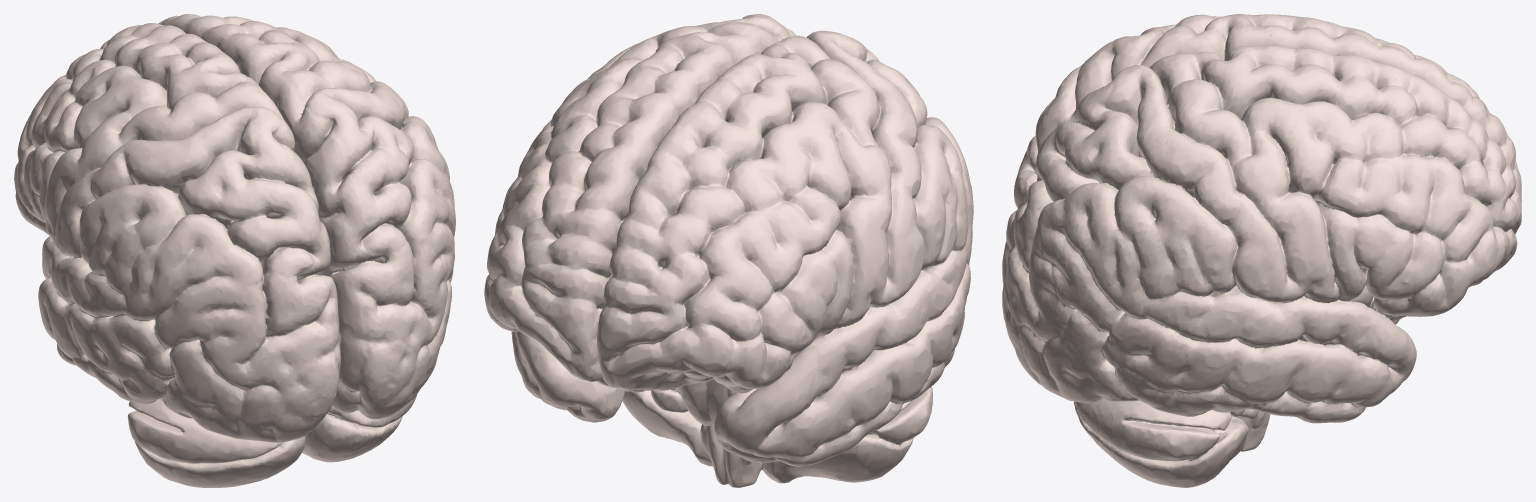
The model's file is brain.glb.
The picture shows the model from 3 angles, left to right: view 1: azimuth 30°, elevation 25°; view 2: azimuth 150°, elevation 25°; view 3: azimuth 270°, elevation 25°; orthographic projection. The views are drawn at different scales.
Visible parts, largest first — view 1: Brain; view 2: Brain; view 3: Brain.
Boxes of the visible parts, left/top/right/bottom form: Brain: left=14, top=14, right=455, bottom=487; Brain: left=484, top=14, right=973, bottom=487; Brain: left=1002, top=14, right=1521, bottom=487.
Bounding box in the file's own units: 1.64 × 1.74 × 2.
